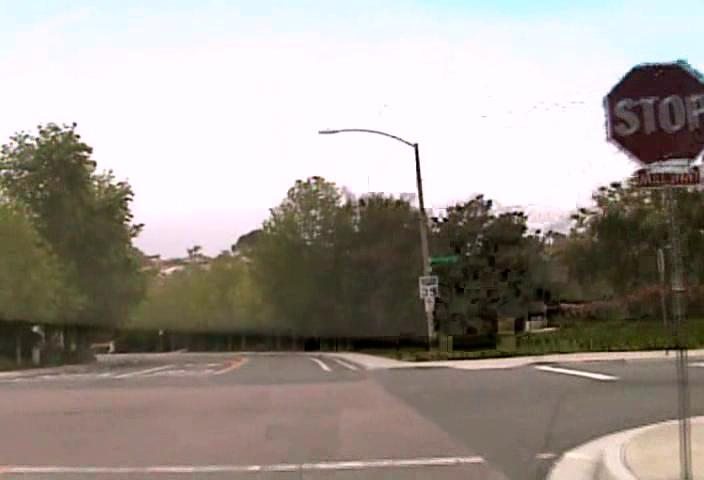speedLimit35: (417, 275, 439, 299)
